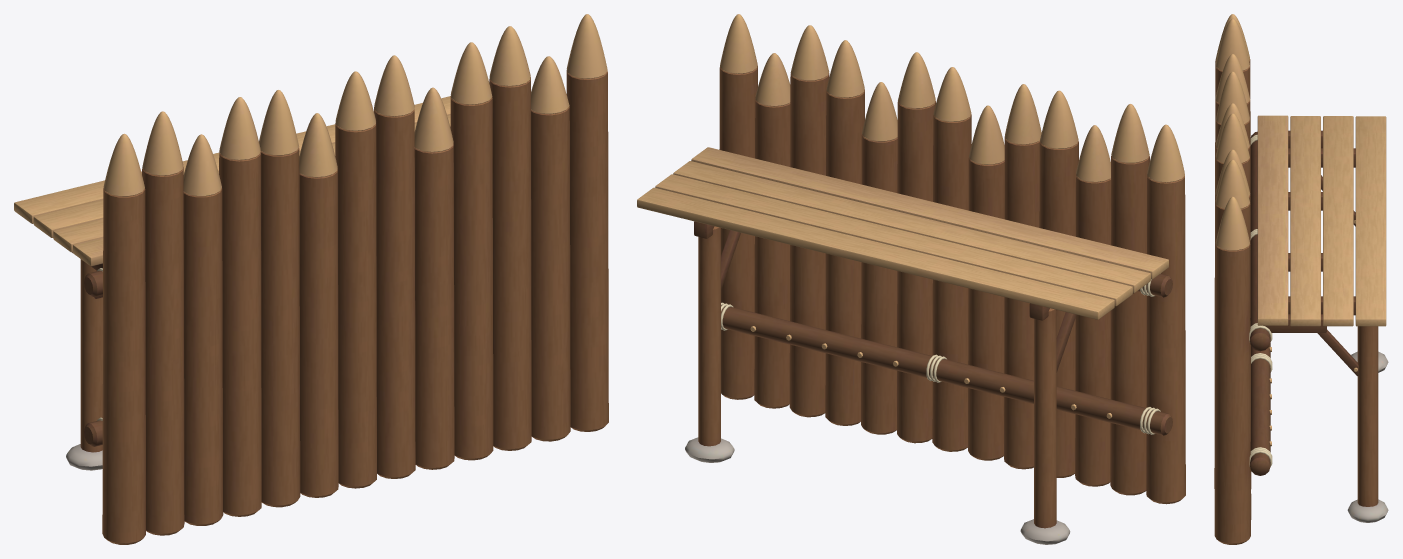
File: wooden-palisade.glb
The picture shows the model from 3 angles, left to right: view 1: azimuth 30°, elevation 25°; view 2: azimuth 150°, elevation 25°; view 3: azimuth 270°, elevation 25°; orthographic projection. The views are drawn at different scales.
Visible parts, largest first — view 1: wooden-palisade_body; view 2: wooden-palisade_body, wooden-palisade_lashings; view 3: wooden-palisade_body, wooden-palisade_lashings.
Part boxes in pixels (x1,y1,x2,y2): wooden-palisade_body: (14, 14, 608, 544); wooden-palisade_body: (637, 14, 1185, 544); wooden-palisade_lashings: (721, 279, 1160, 434); wooden-palisade_body: (1214, 14, 1388, 544); wooden-palisade_lashings: (1249, 134, 1357, 466).
Size of the model in its own units: 4.01 by 3.18 by 1.44.
Materials: 3 (1 with a texture image).
